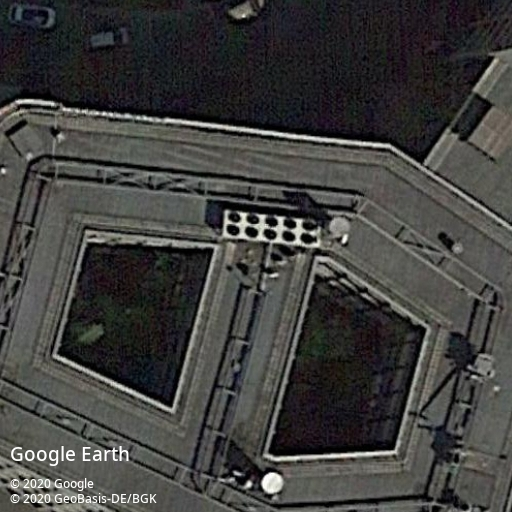Chiller: (220, 209, 323, 248)
